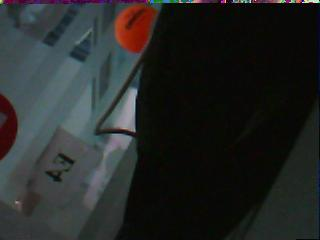oball: (113, 5, 157, 53)
